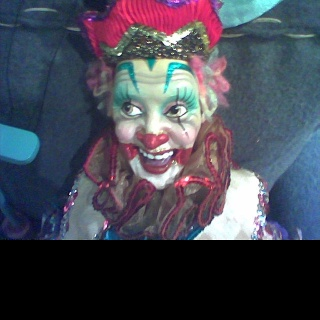without_mask: (106, 58, 206, 190)
